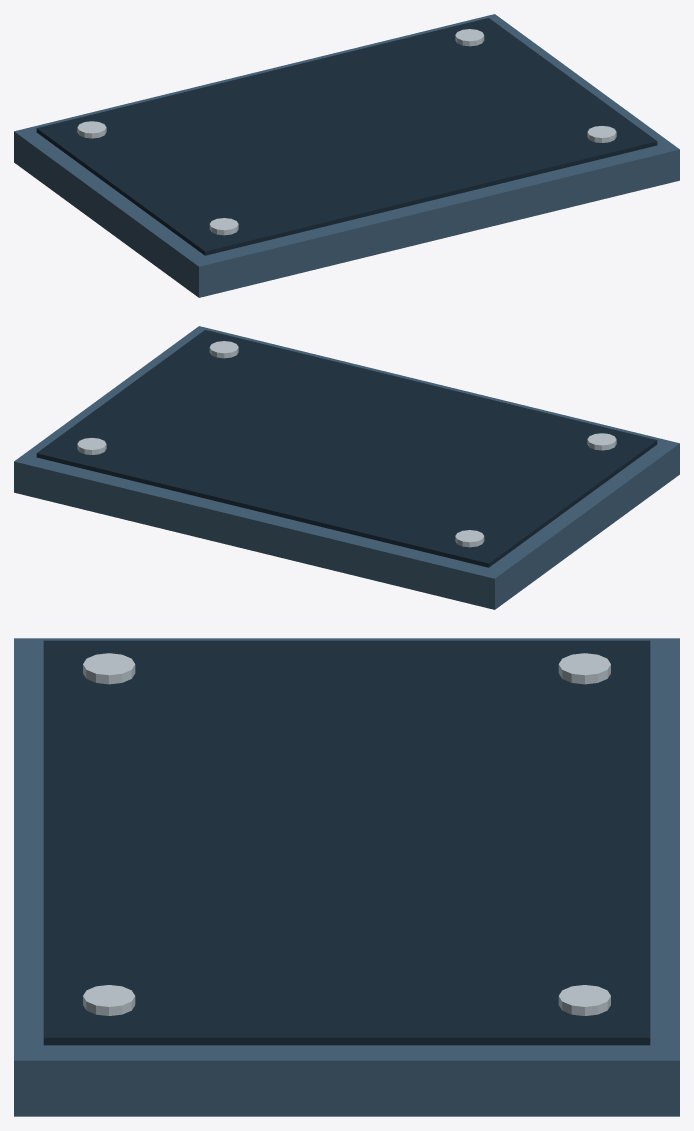
File: 02_L80_CompletedFourChipletPackageCarrier.fbx
3 views of the same model, one above another, from view 1: azimuth 30°, elevation 25°; view 2: azimuth 150°, elevation 25°; view 3: azimuth 270°, elevation 25° (orthographic). The views are drawn at different scales.
Parts seen in each view (by area): view 1: CompletedFourChipletPackageCarrier; view 2: CompletedFourChipletPackageCarrier; view 3: CompletedFourChipletPackageCarrier.
Part boxes in pixels (left/top/right/bottom): CompletedFourChipletPackageCarrier: left=14, top=14, right=679, bottom=297; CompletedFourChipletPackageCarrier: left=14, top=326, right=679, bottom=609; CompletedFourChipletPackageCarrier: left=14, top=638, right=679, bottom=1116.
Bounding box in the file's own units: 420 × 35 × 280.
